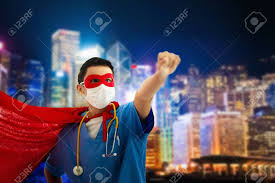mask: (87, 84, 115, 108)
